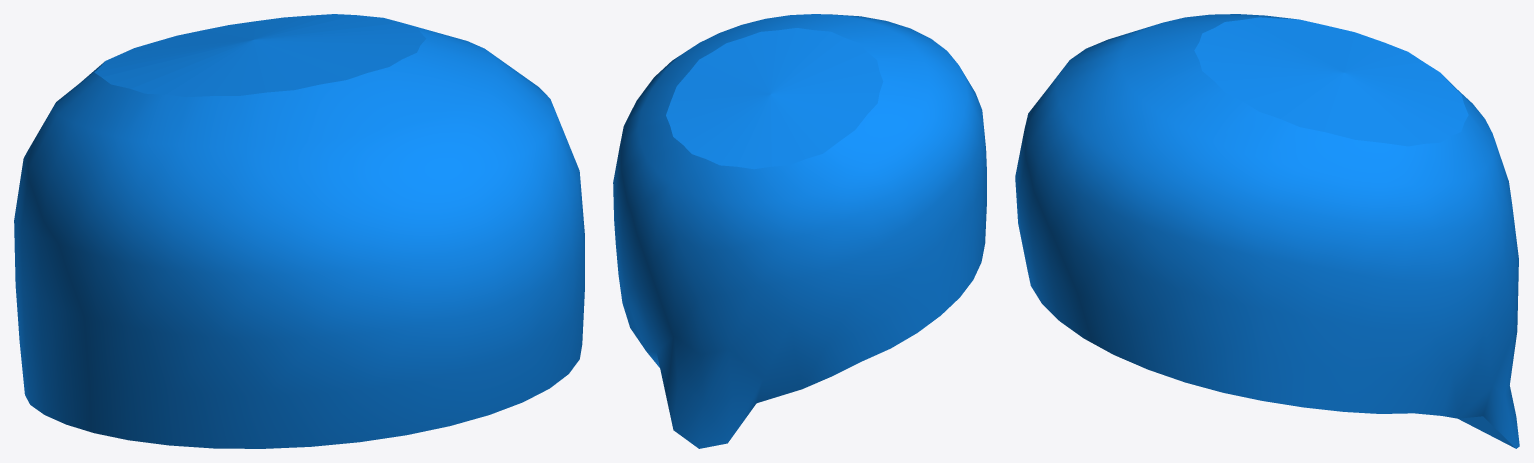
The model's file is DoctorHat.fbx.
3 renders of one model, left to right at view 1: azimuth 30°, elevation 25°; view 2: azimuth 150°, elevation 25°; view 3: azimuth 270°, elevation 25°, orthographic. The views are drawn at different scales.
Parts seen in each view (by area): view 1: Cylinder004; view 2: Cylinder004; view 3: Cylinder004.
Part boxes in pixels (x1=…): Cylinder004: x1=14, y1=14, x2=584, y2=448; Cylinder004: x1=613, y1=14, x2=986, y2=448; Cylinder004: x1=1015, y1=14, x2=1519, y2=448.
Size of the model in its own units: 25.96 by 25.45 by 29.41.
